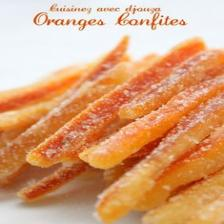orange: (27, 40, 205, 167), (0, 63, 134, 185), (112, 93, 224, 196), (79, 87, 203, 169), (116, 81, 175, 119)
